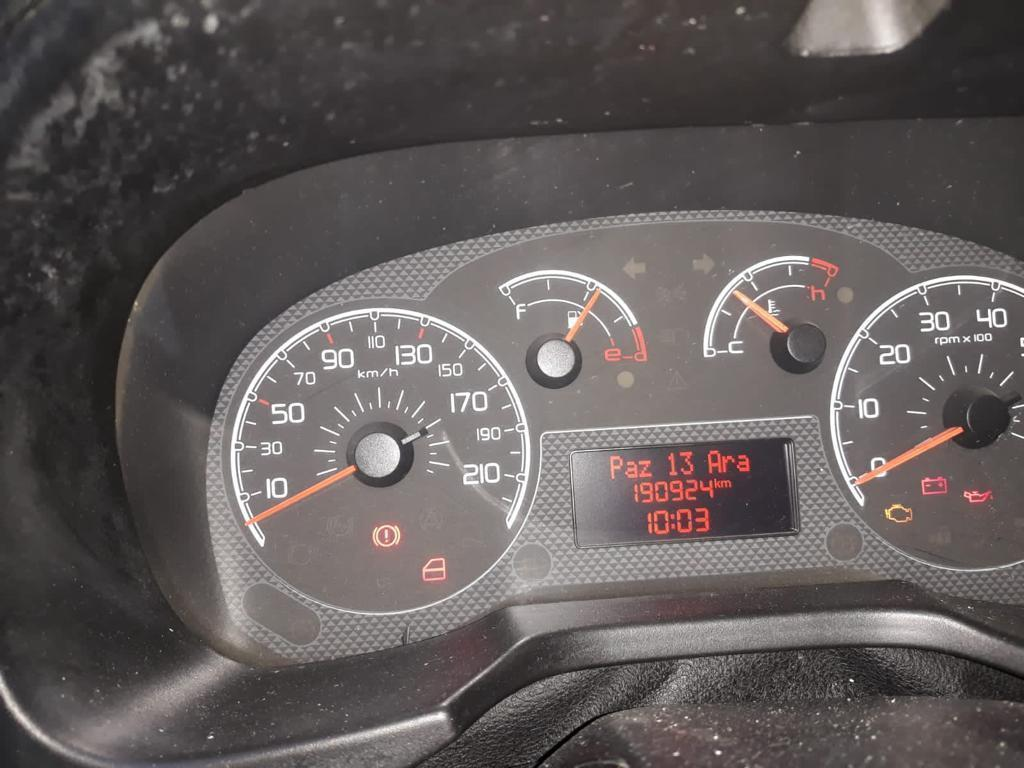0: (676, 507, 692, 534), (652, 509, 668, 536), (653, 480, 669, 502)
1: (667, 451, 678, 475), (645, 510, 653, 535), (633, 482, 639, 504)
2: (684, 478, 697, 501)
3: (694, 506, 710, 533), (679, 449, 695, 476)
4: (699, 479, 713, 499)
9: (668, 479, 683, 501), (640, 481, 652, 503)
X: (607, 454, 622, 480), (707, 448, 721, 474), (638, 459, 653, 478), (737, 453, 750, 473), (721, 453, 734, 472), (625, 459, 637, 479), (669, 511, 675, 530), (721, 480, 732, 487), (714, 477, 720, 488)
odometer: (568, 435, 803, 550)
